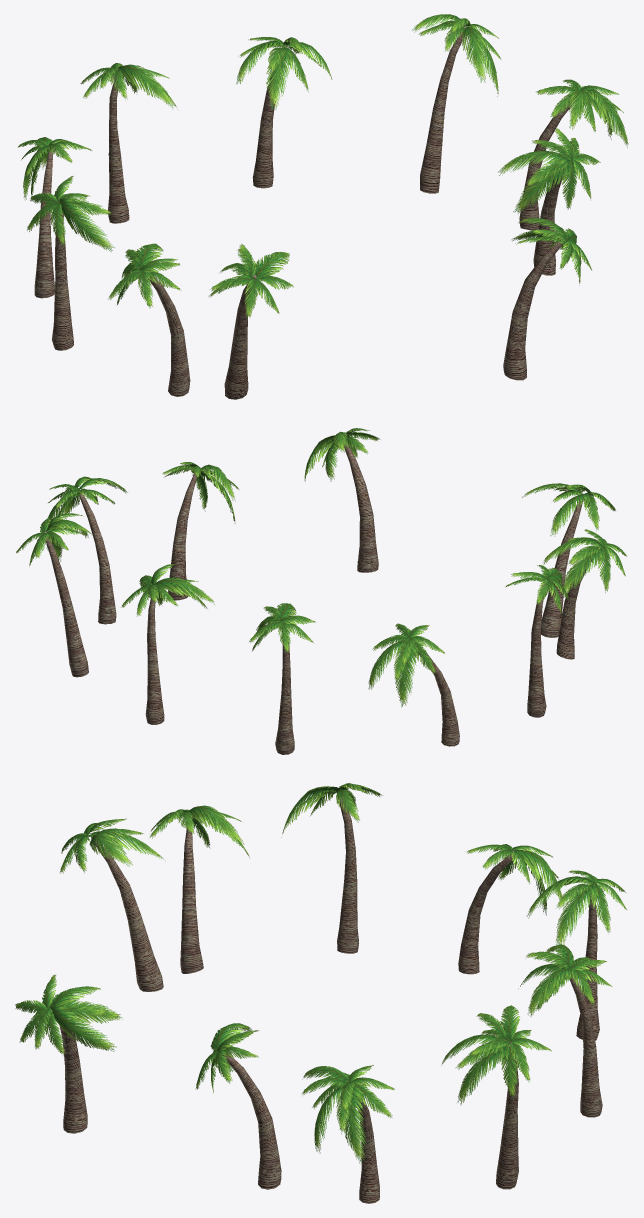
File: tree.obj
3 renders of one model, top to bottom at view 1: azimuth 30°, elevation 25°; view 2: azimuth 150°, elevation 25°; view 3: azimuth 270°, elevation 25°, orthographic. The views are drawn at different scales.
Parts seen in each view (by area): view 1: leaf_017_0, leaf_02_0, tree_Shape3_0, tree_Shape4_0, leaf_05_0, leaf_06_0, tree_Shape6_0, tree_Shape9_0, tree_Shape10_0, tree_Shape8_0, tree_Shape7_0, leaf_09_0 (+16 smaller); view 2: leaf_012_0, tree_Shape3_0, tree_Shape4_0, leaf_010_0, leaf_014_0, tree_1Shape_0, tree_Shape8_0, tree_Shape5_0, tree_Shape10_0, tree_Shape6_0, tree_Shape2_0, leaf_015_0 (+14 smaller); view 3: rerf_09_0, leaf_07_0, leaf_06_0, leaf_015_0, tree_Shape10_0, tree_Shape2_0, tree_Shape8_0, tree_Shape9_0, tree_Shape5_0, tree_Shape3_0, leaf_04_0, tree_Shape4_0 (+16 smaller).
Part boxes in pixels (box(x1,y1,x2,y2)): leaf_017_0: box(498, 128, 593, 213); leaf_02_0: box(27, 176, 114, 251); tree_Shape3_0: box(503, 238, 564, 380); tree_Shape4_0: box(420, 26, 466, 193); leaf_05_0: box(236, 38, 332, 109); leaf_06_0: box(412, 14, 500, 96); tree_Shape6_0: box(108, 76, 129, 223); tree_Shape9_0: box(147, 277, 190, 396); tree_Shape10_0: box(224, 275, 256, 399); tree_Shape8_0: box(51, 202, 73, 350); tree_Shape7_0: box(34, 149, 54, 298); leaf_09_0: box(210, 244, 293, 318); leaf_012_0: box(368, 623, 444, 705); tree_Shape3_0: box(344, 443, 378, 572); tree_Shape4_0: box(44, 531, 88, 677); leaf_010_0: box(543, 530, 626, 596); leaf_014_0: box(122, 564, 213, 615); tree_1Shape_0: box(79, 493, 116, 624); tree_Shape8_0: box(527, 583, 546, 717); tree_Shape5_0: box(145, 598, 164, 724); tree_Shape10_0: box(541, 493, 583, 637); tree_Shape6_0: box(275, 628, 294, 754); tree_Shape2_0: box(168, 473, 196, 600); leaf_015_0: box(16, 513, 91, 565); rerf_09_0: box(15, 975, 122, 1054); leaf_07_0: box(302, 1065, 394, 1162); leaf_06_0: box(442, 1006, 550, 1104); leaf_015_0: box(442, 1005, 551, 1103); tree_Shape10_0: box(91, 836, 163, 991); tree_Shape2_0: box(222, 1053, 281, 1189); tree_Shape8_0: box(337, 797, 358, 953); tree_Shape9_0: box(180, 815, 203, 973); tree_Shape5_0: box(570, 977, 602, 1117); tree_Shape3_0: box(59, 1025, 87, 1133); leaf_04_0: box(527, 871, 626, 944); tree_Shape4_0: box(496, 1042, 518, 1189).
Bounding box in the file's own units: 1133 × 323 × 973.
6 materials, 6 textured.
